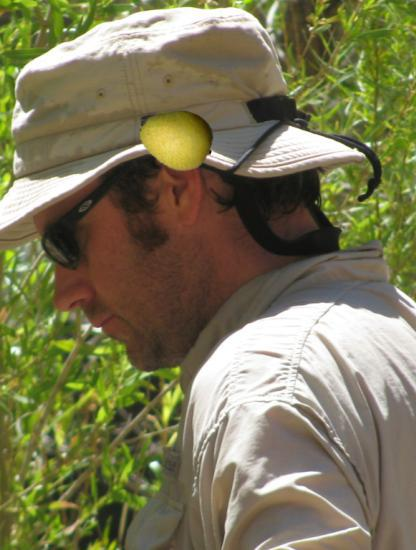Pear: (137, 100, 214, 177)
